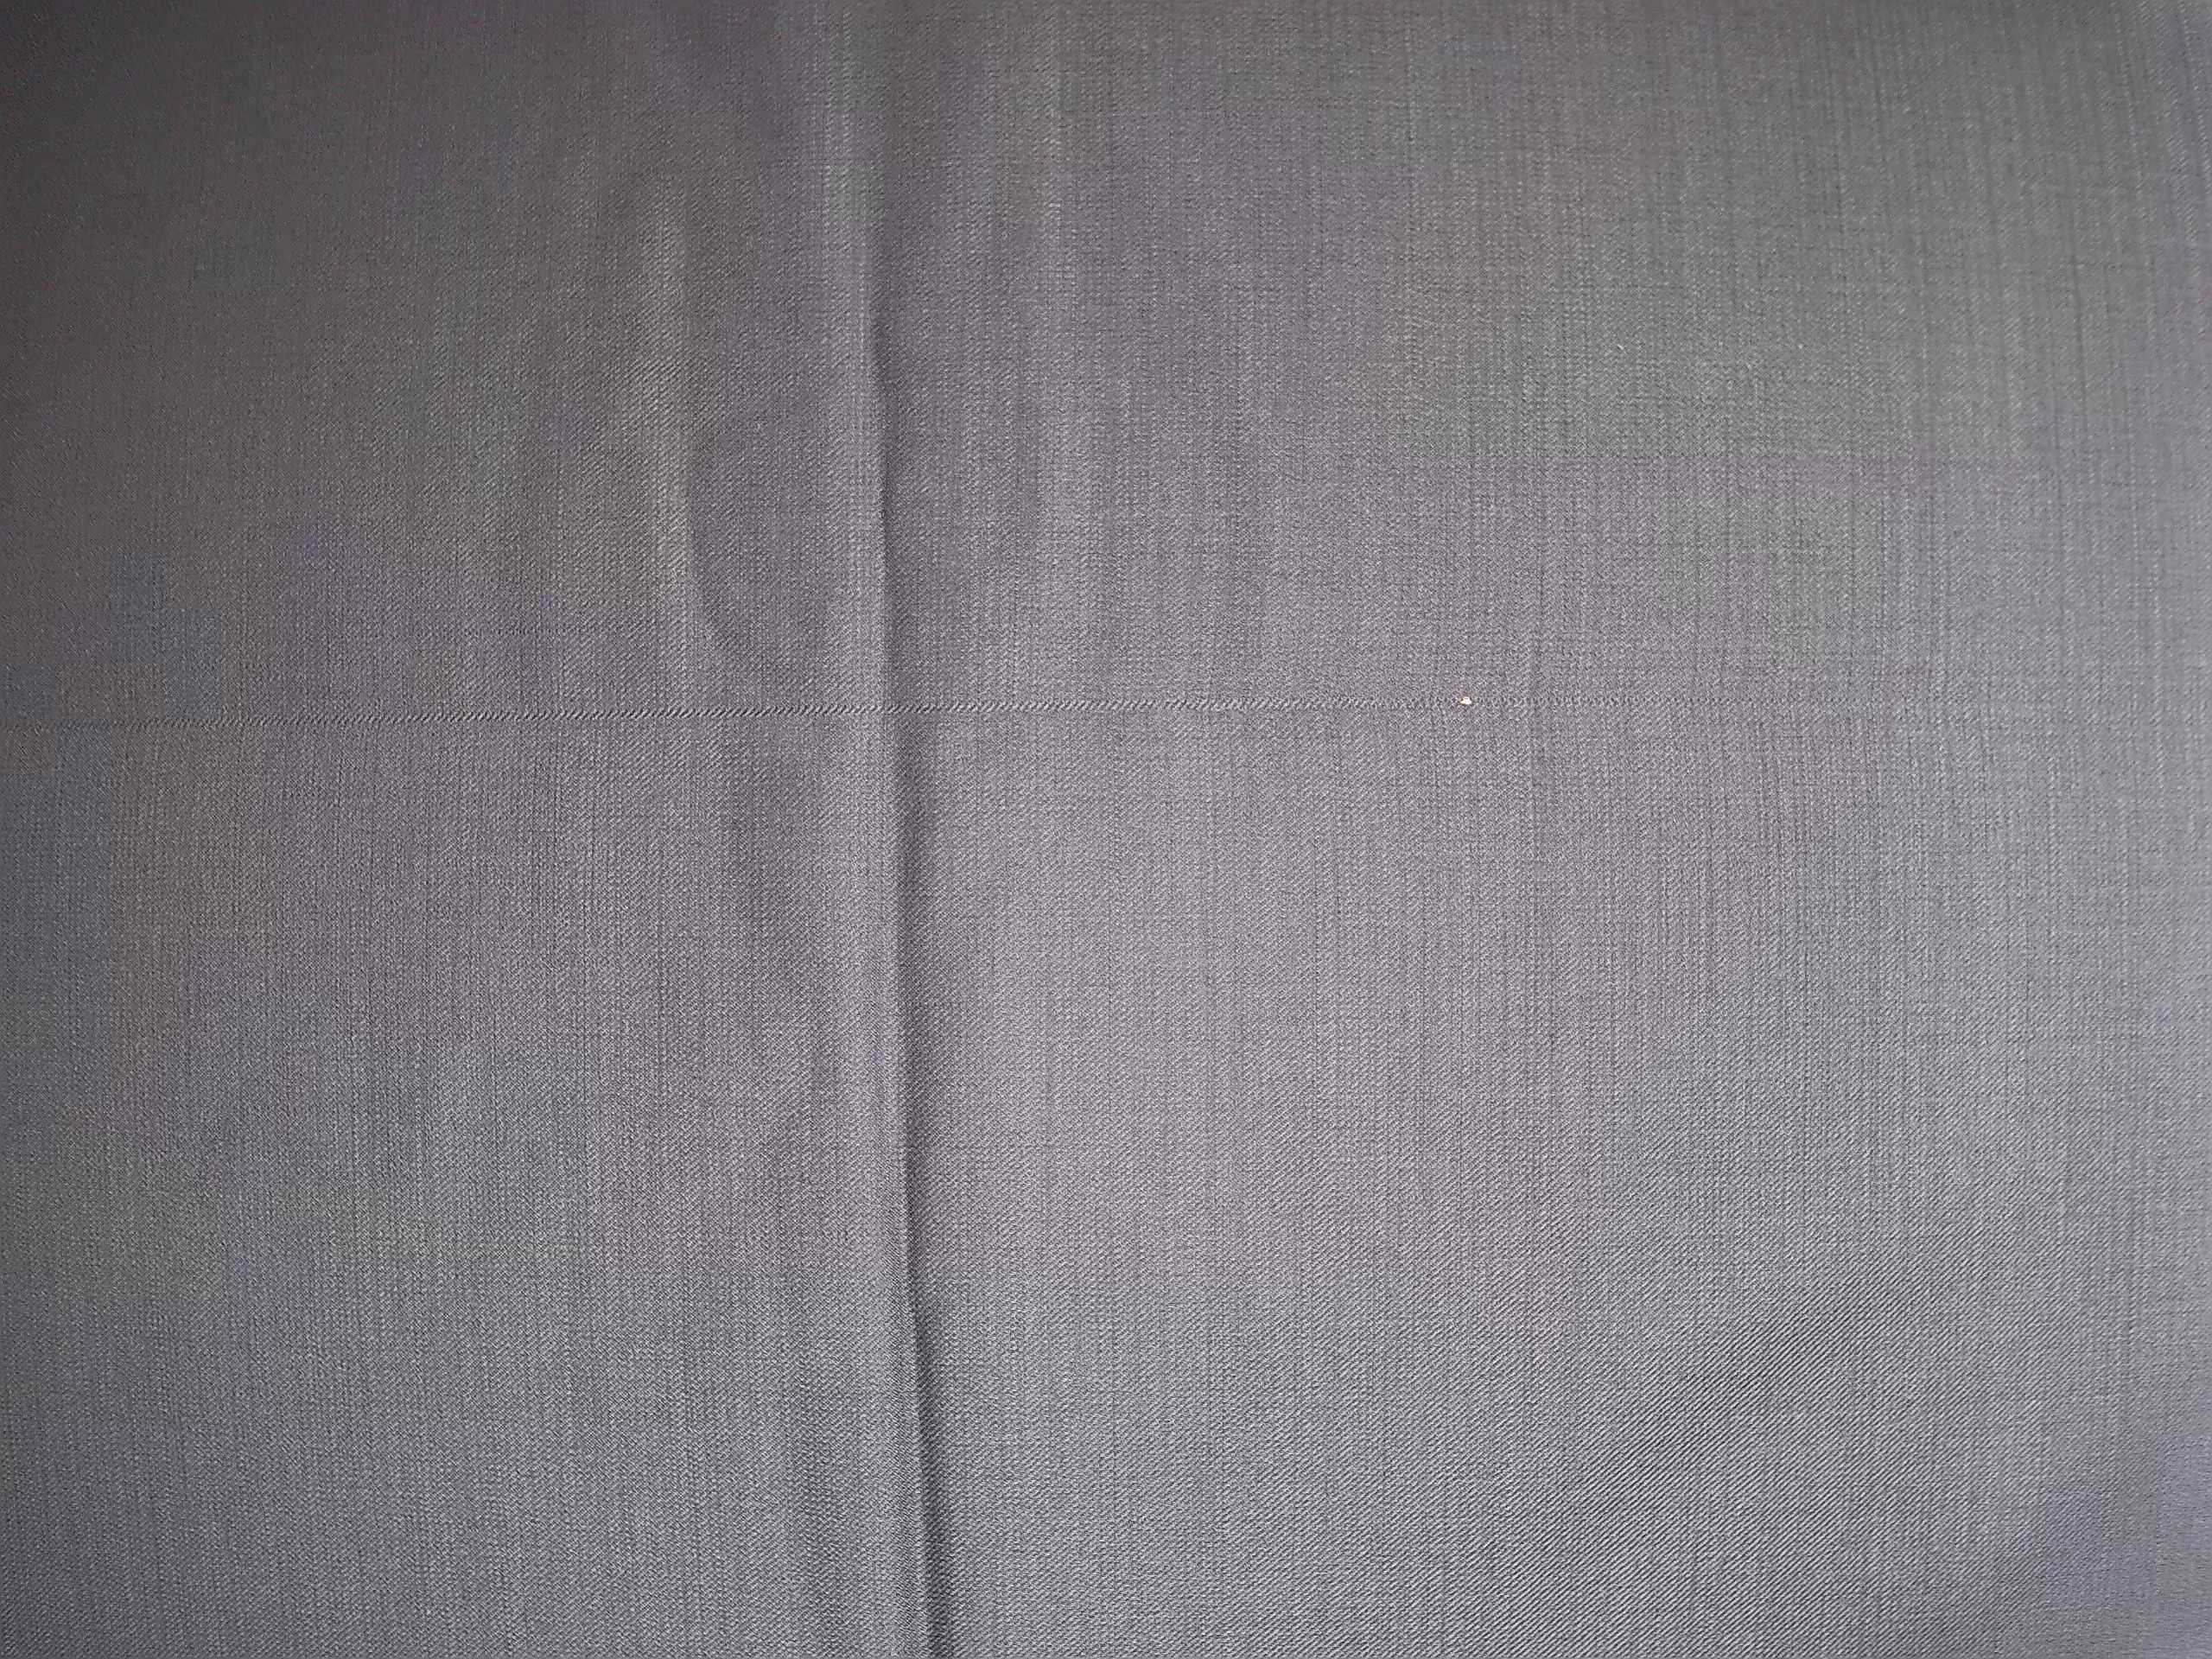吊经: (21, 680, 1937, 735)
